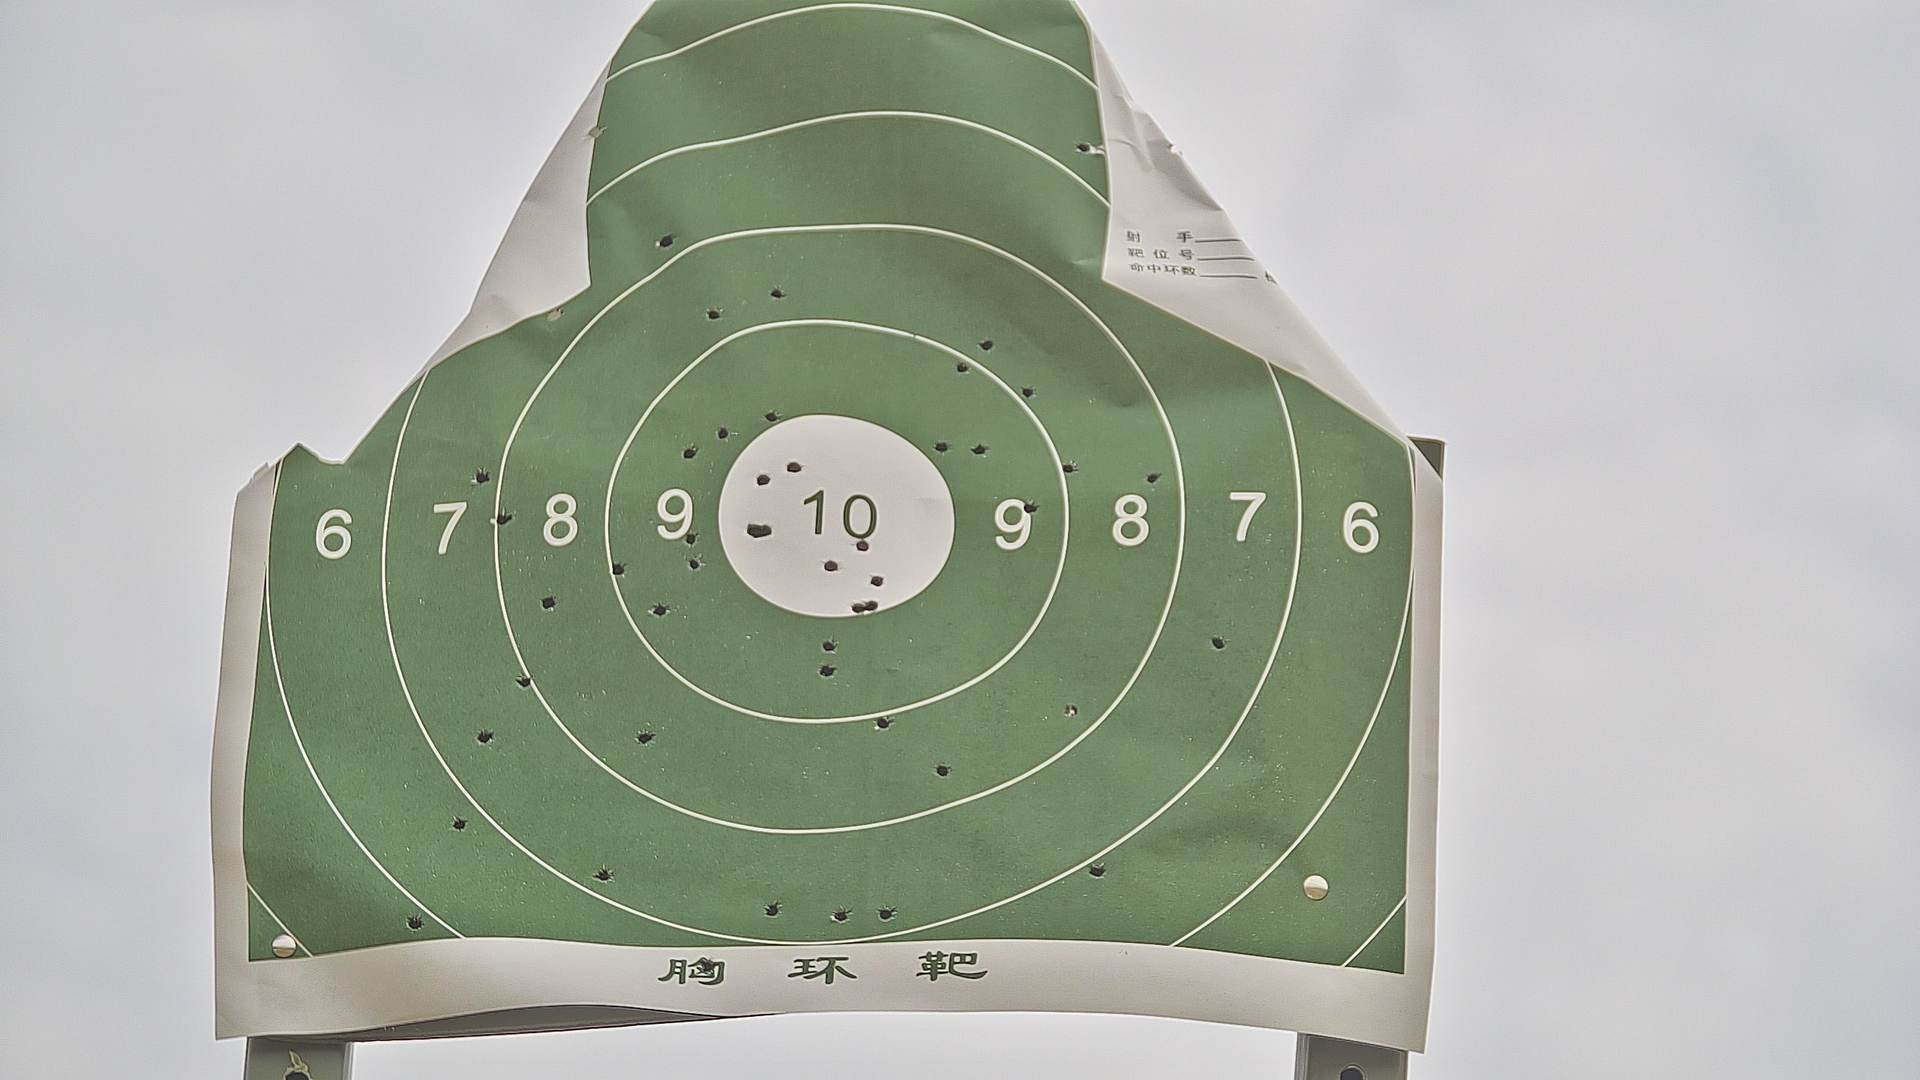hole: (473, 727, 495, 745), (406, 915, 426, 932), (655, 233, 676, 248), (649, 603, 667, 618), (704, 306, 724, 320), (611, 560, 626, 578), (698, 957, 713, 975), (935, 762, 951, 779), (539, 596, 558, 611), (636, 732, 654, 746), (762, 902, 781, 916), (877, 907, 897, 920), (1088, 864, 1108, 877), (684, 530, 700, 546), (934, 439, 949, 455), (874, 715, 890, 731), (757, 524, 771, 541), (1025, 498, 1039, 516), (680, 446, 699, 459), (595, 870, 613, 884), (1211, 633, 1224, 651), (452, 816, 467, 832), (1019, 385, 1035, 400), (1146, 469, 1162, 484), (971, 443, 988, 456), (818, 663, 835, 676), (493, 512, 512, 524), (823, 558, 837, 572), (1076, 142, 1092, 156), (473, 471, 489, 484), (516, 676, 533, 688), (786, 462, 803, 473), (820, 640, 837, 651), (1062, 462, 1079, 473), (688, 556, 702, 571), (756, 473, 770, 487), (746, 524, 757, 541), (856, 539, 869, 553), (833, 909, 847, 922), (717, 426, 729, 440), (978, 340, 993, 352), (870, 575, 885, 587), (851, 603, 865, 615), (866, 597, 881, 609), (769, 287, 785, 298), (956, 363, 969, 375), (1065, 704, 1077, 717), (547, 310, 560, 320), (765, 411, 779, 421), (589, 127, 605, 135)
kernel: (828, 513, 833, 520)
target: (247, 1, 1422, 986)
ten: (715, 415, 955, 618)
